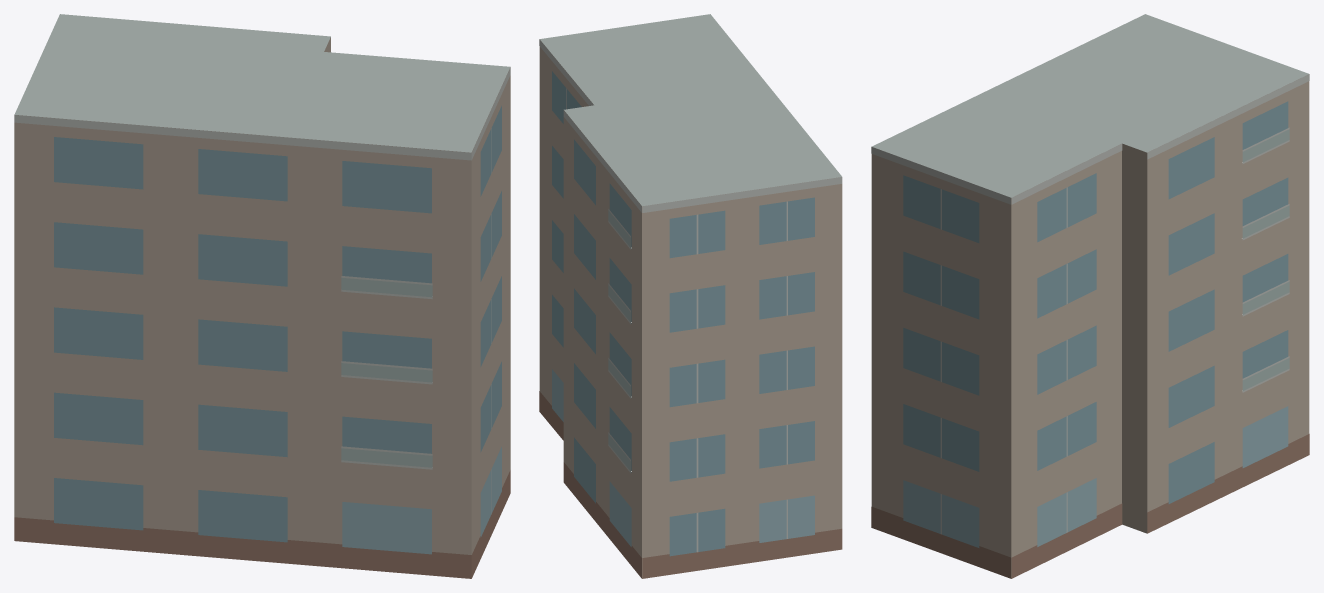
File: survey-upis-32569942.glb
3 views of the same model, side by side, from view 1: azimuth 30°, elevation 25°; view 2: azimuth 150°, elevation 25°; view 3: azimuth 270°, elevation 25° (orthographic). The views are drawn at different scales.
Parts seen in each view (by area): view 1: survey-upis-32569942.tmp; view 2: survey-upis-32569942.tmp; view 3: survey-upis-32569942.tmp.
Part boxes in pixels (<box>): survey-upis-32569942.tmp: <box>14,14,510,578</box>; survey-upis-32569942.tmp: <box>539,14,842,578</box>; survey-upis-32569942.tmp: <box>871,14,1309,578</box>.
Bounding box in the file's own units: 13.66 × 13.2 × 13.76.
